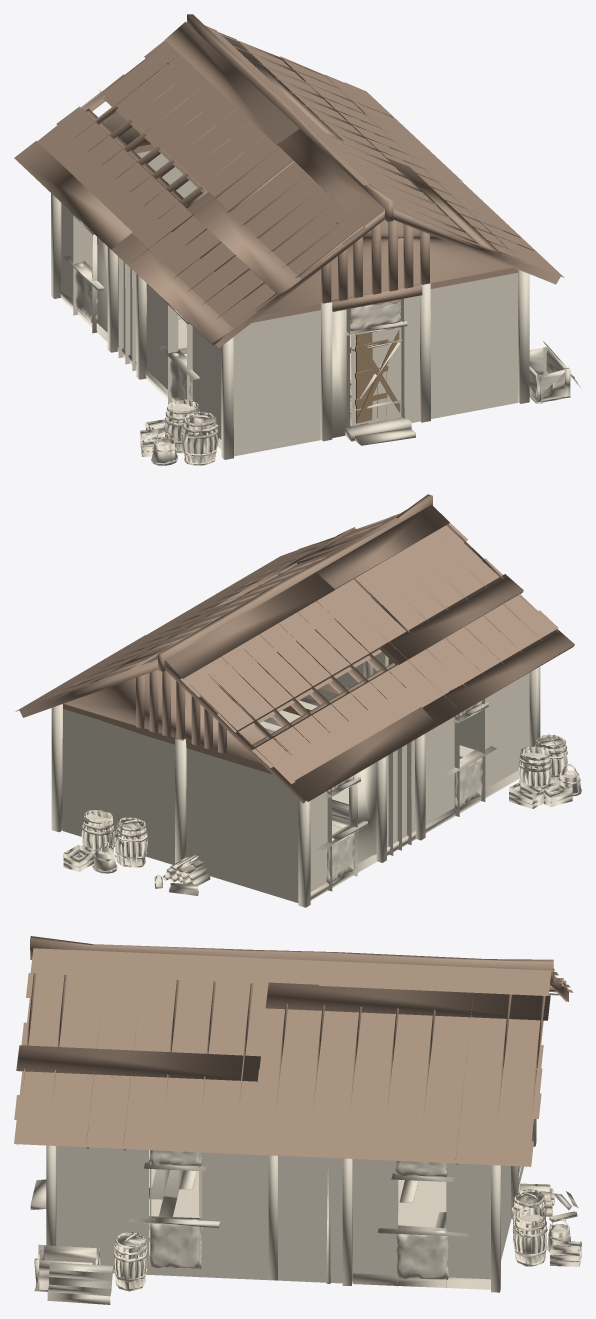
The model's file is village-home-closed.glb.
3 renders of one model, top to bottom at view 1: azimuth 30°, elevation 25°; view 2: azimuth 150°, elevation 25°; view 3: azimuth 270°, elevation 25°, orthographic. The views are drawn at different scales.
Parts seen in each view (by area): view 1: 01.002, Door_Closed_Boarded; view 2: 01.002; view 3: 01.002.
Part boxes in pixels (<box>): 01.002: <box>14,14,580,465</box>; Door_Closed_Boarded: <box>356,328,394,423</box>; 01.002: <box>15,494,581,907</box>; 01.002: <box>14,936,581,1304</box>.
Bounding box in the file's own units: 11.63 × 6.58 × 13.03.
